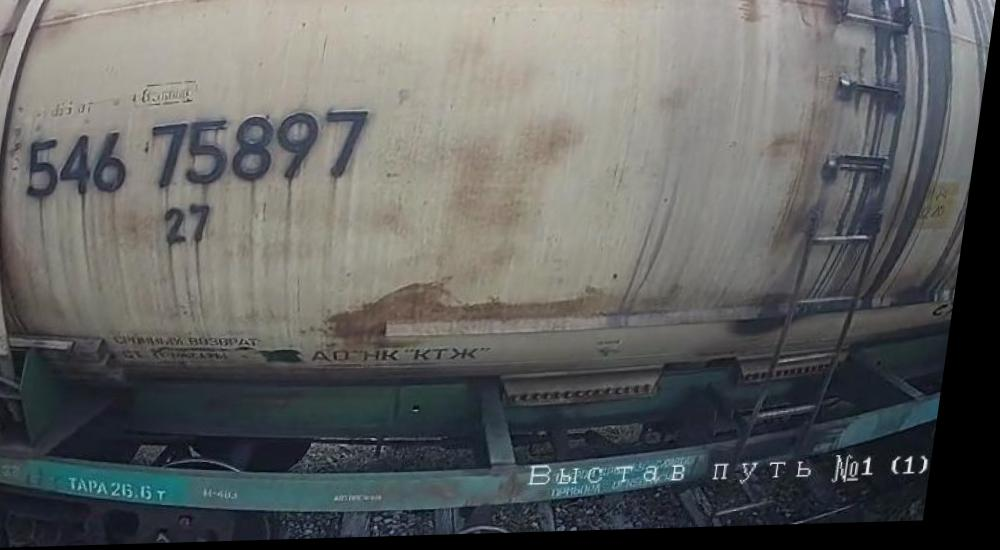Wagon-number: (24, 109, 380, 202)
